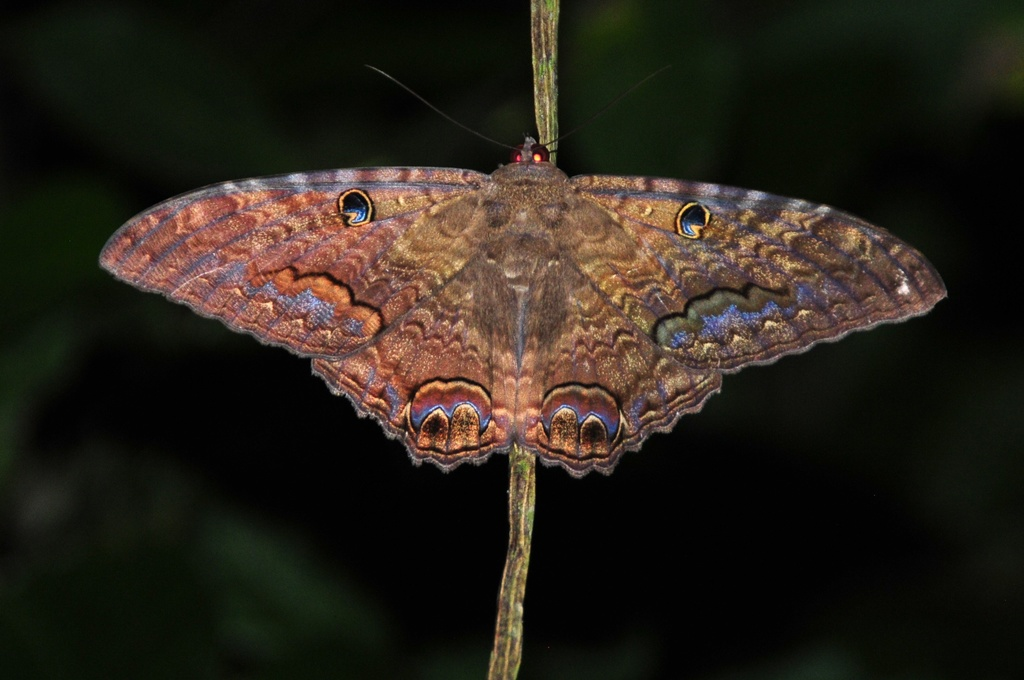Butterfly: (81, 132, 950, 474)
